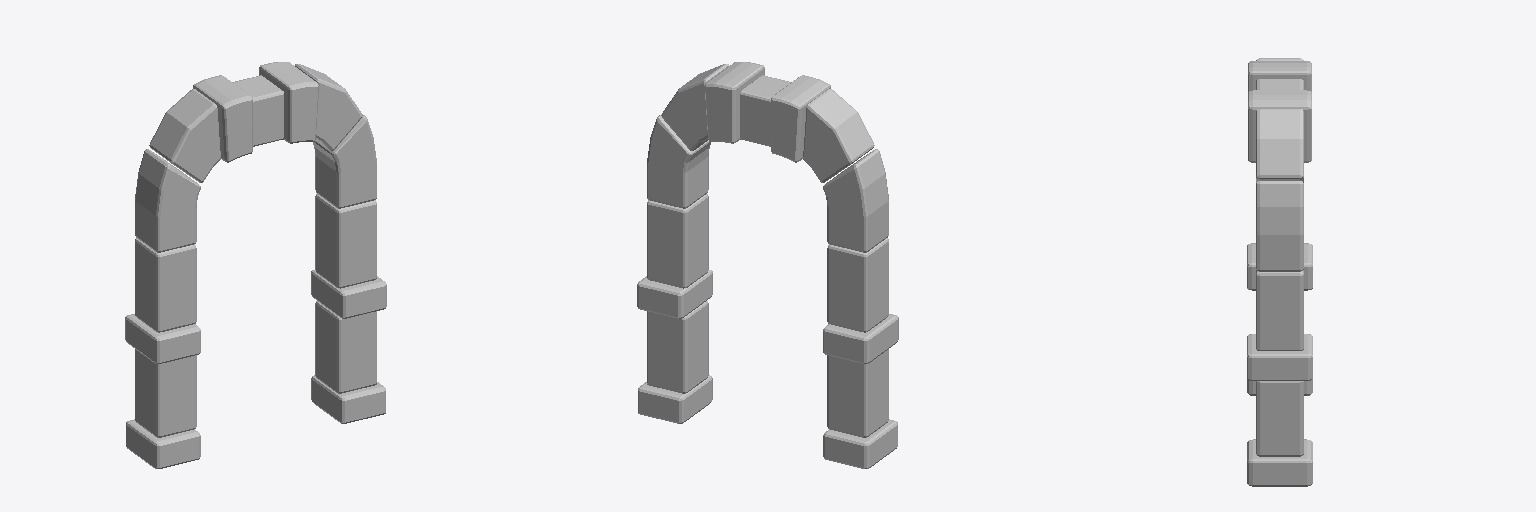
File: door2.obj
The picture shows the model from 3 angles: view 1: azimuth 30°, elevation 25°; view 2: azimuth 150°, elevation 25°; view 3: azimuth 270°, elevation 25°; orthographic projection.
Parts seen in each view (by area): view 1: door2; view 2: door2; view 3: door2.
Part boxes in pixels (x1,y1,x2,y2): door2: (125, 62, 386, 468); door2: (637, 62, 898, 468); door2: (1247, 58, 1312, 486).
Bounding box in the file's own units: 9.49 × 13.72 × 2.37.